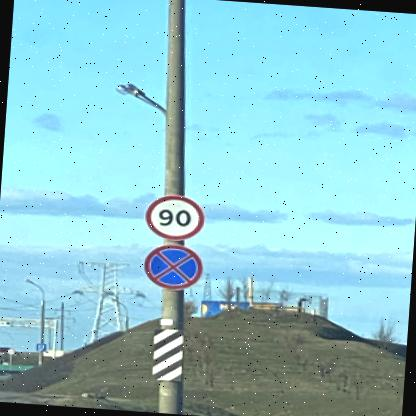speedlimit: (142, 192, 204, 240)
